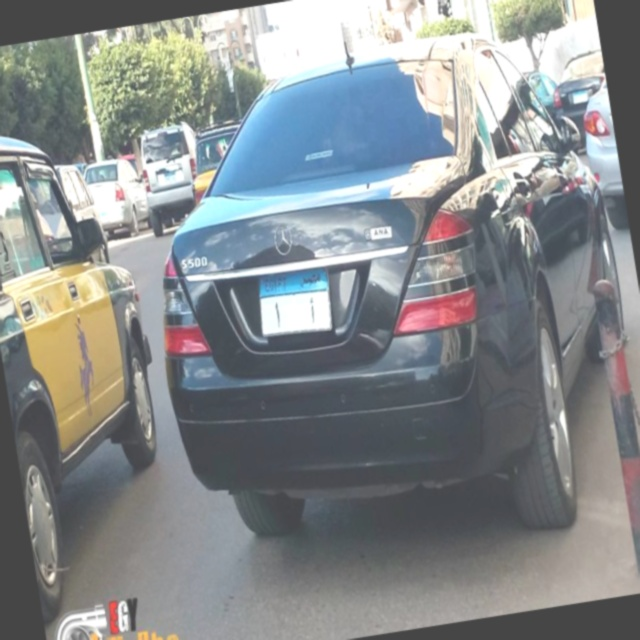License Plate: (252, 265, 338, 341)
